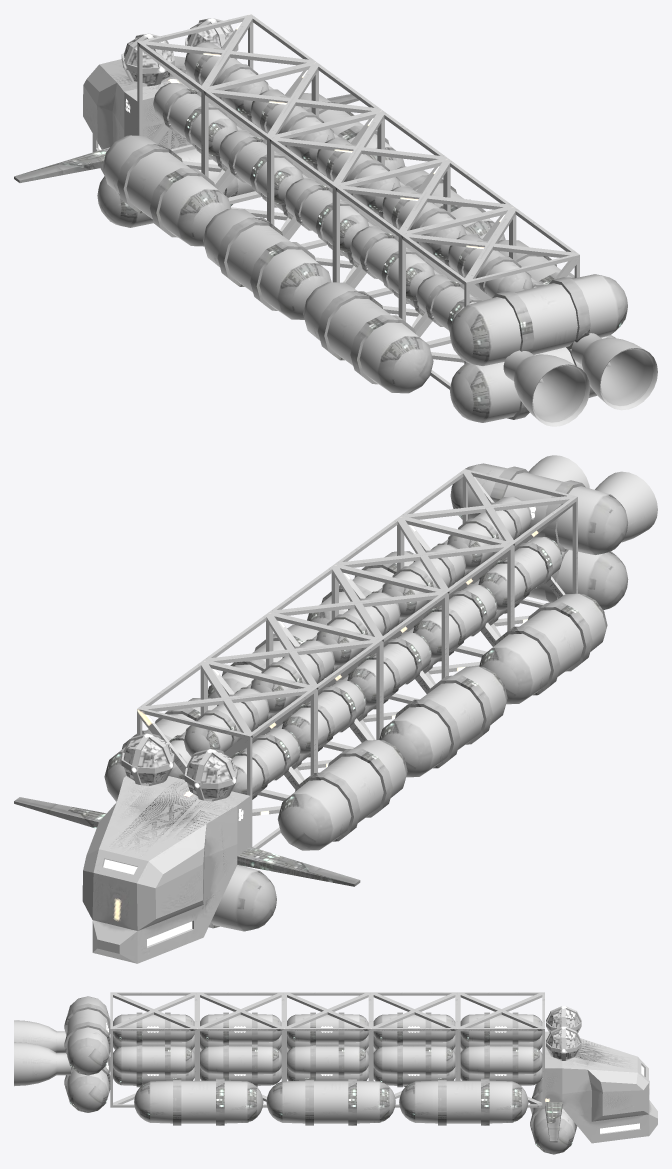
The model's file is drone2_compressed.glb.
The picture shows the model from 3 angles, top to bottom: view 1: azimuth 30°, elevation 25°; view 2: azimuth 150°, elevation 25°; view 3: azimuth 270°, elevation 25°; orthographic projection. The views are drawn at different scales.
Visible parts, largest first — view 1: Drone; view 2: Drone; view 3: Drone.
Part boxes in pixels (x1,y1,x2,y2): Drone: (14, 14, 657, 426); Drone: (14, 455, 657, 963); Drone: (14, 992, 657, 1154).
Size of the model in its own units: 1.2 by 0.6406 by 2.96.
Materials: 1 (1 with a texture image).
